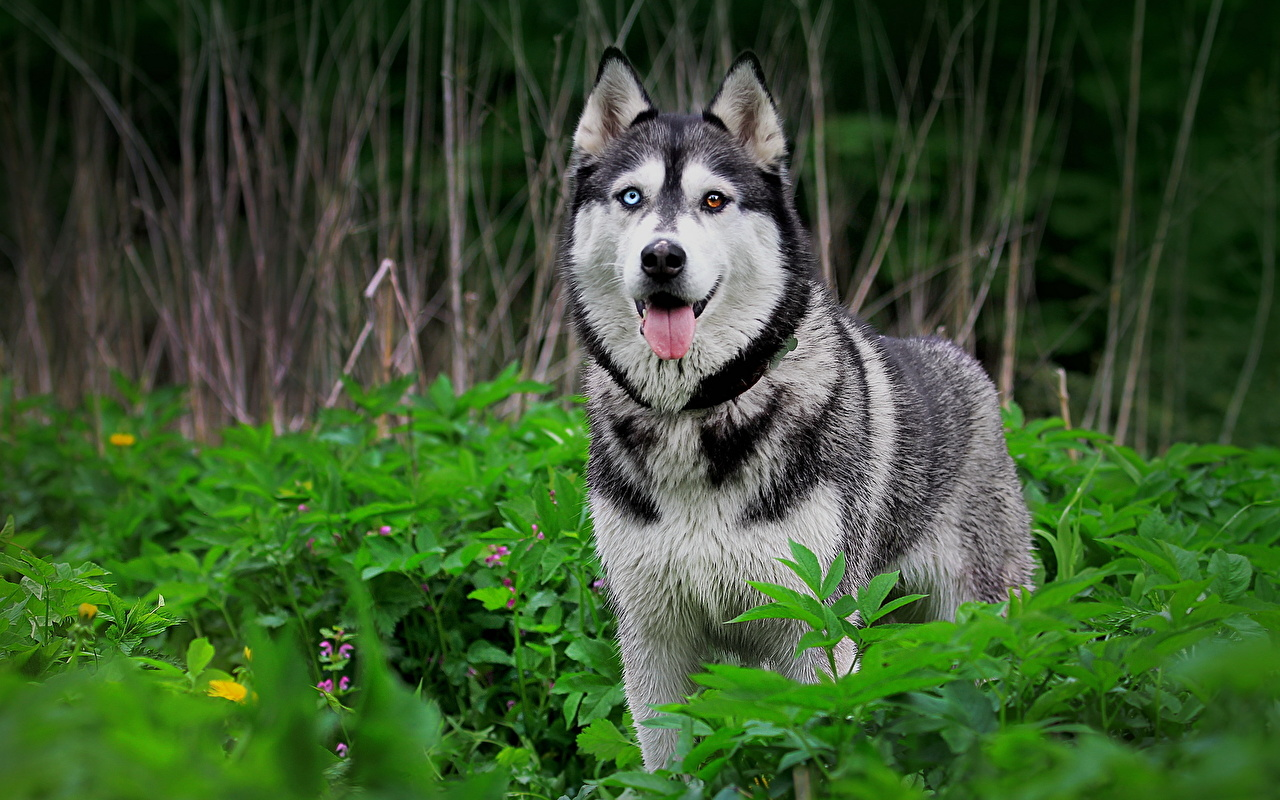husky: (529, 35, 939, 665)
